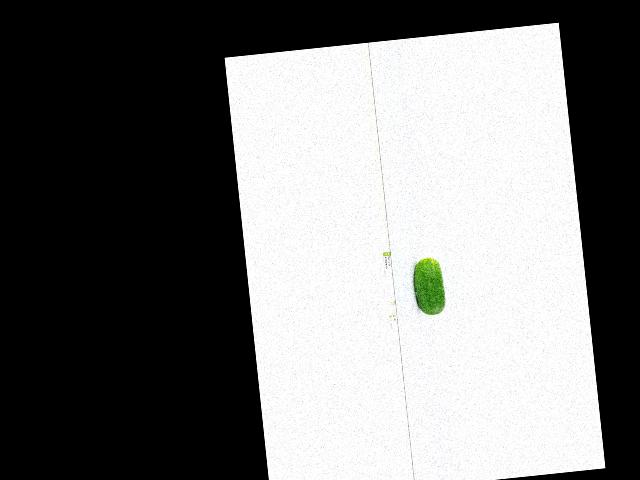cucumber: (411, 256, 446, 317)
